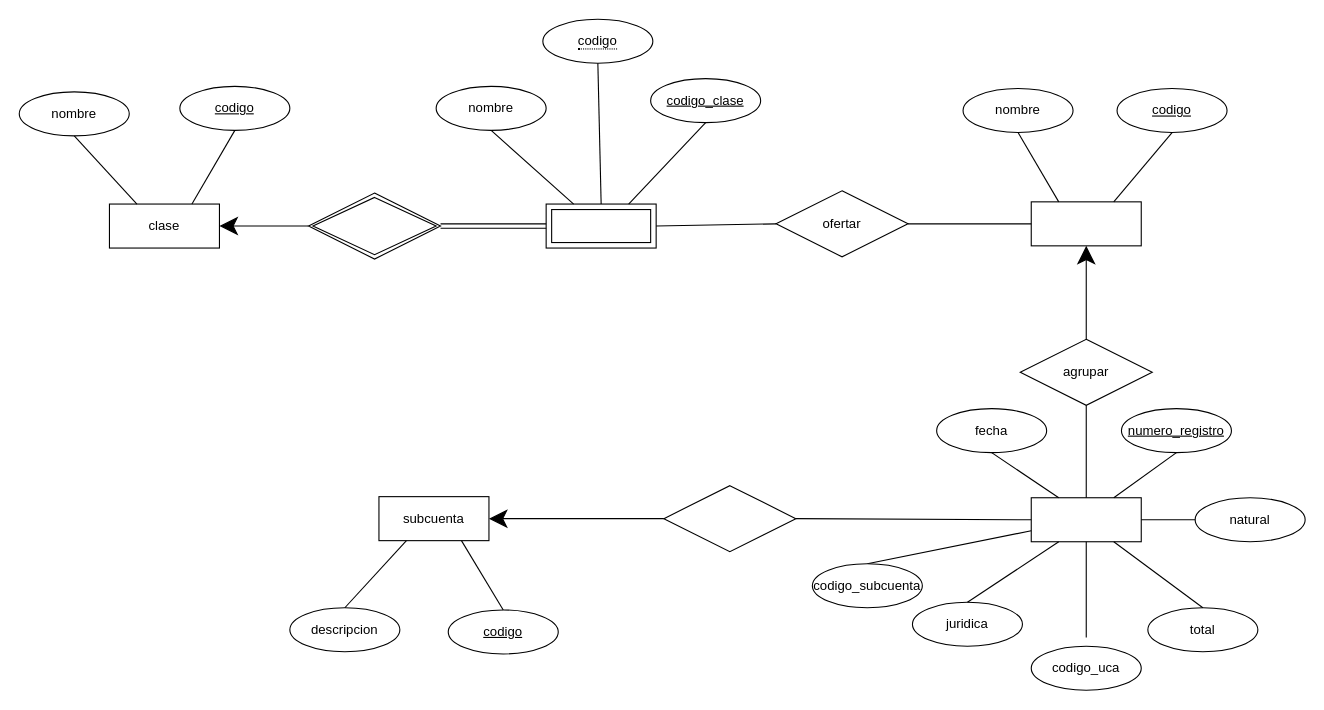
The diagram is 1324 pixels wide and 710 high, and some of its shapes have lost their labels. The centre of each missing label's shape, as x and y in pixels:
asignar: pixel 729 518
clasificar: pixel 374 225
entidad: pixel 600 225
registro: pixel 1085 519
uca: pixel 1085 223
